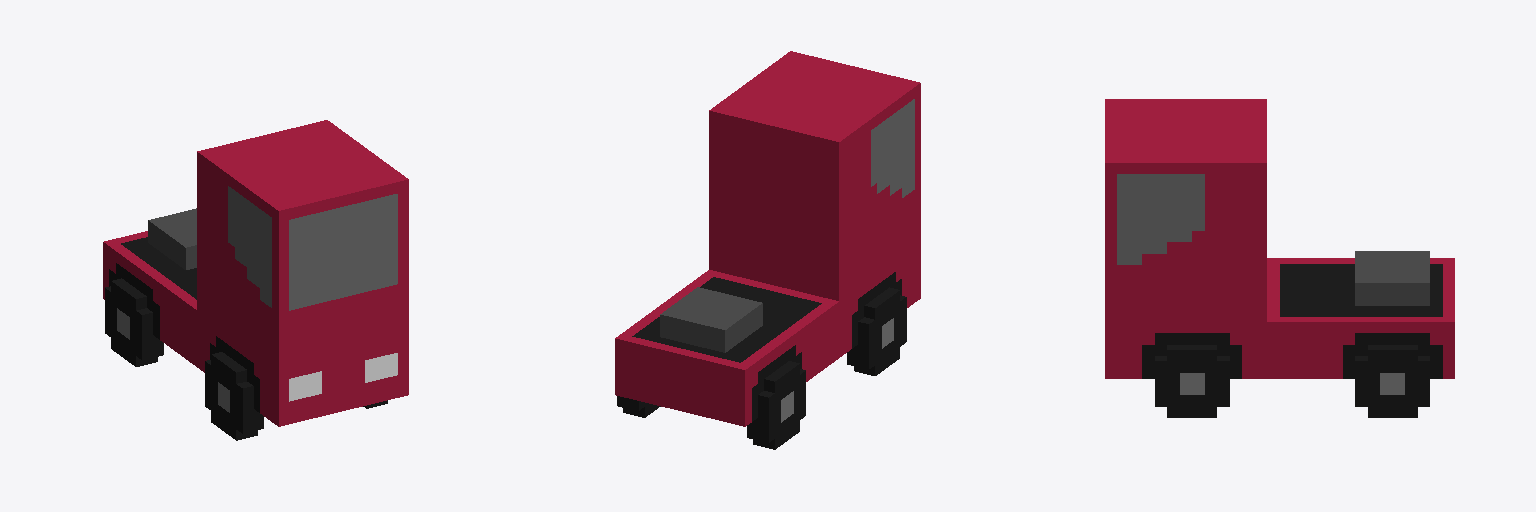
3 renders of one model, left to right at view 1: azimuth 30°, elevation 25°; view 2: azimuth 150°, elevation 25°; view 3: azimuth 270°, elevation 25°, orthographic.
Parts seen in each view (by area): view 1: truckcab_magenta; view 2: truckcab_magenta; view 3: truckcab_magenta.
Part boxes in pixels (left/top/right/bottom): truckcab_magenta: left=103, top=120, right=408, bottom=440; truckcab_magenta: left=615, top=51, right=920, bottom=449; truckcab_magenta: left=1105, top=99, right=1454, bottom=417.
Size of the model in its own units: 14 by 22 by 28.
Materials: 1 (1 with a texture image).